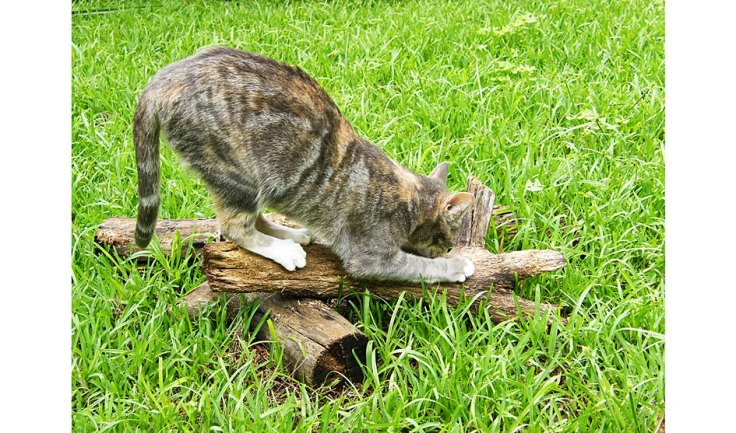cat: (131, 46, 490, 276)
